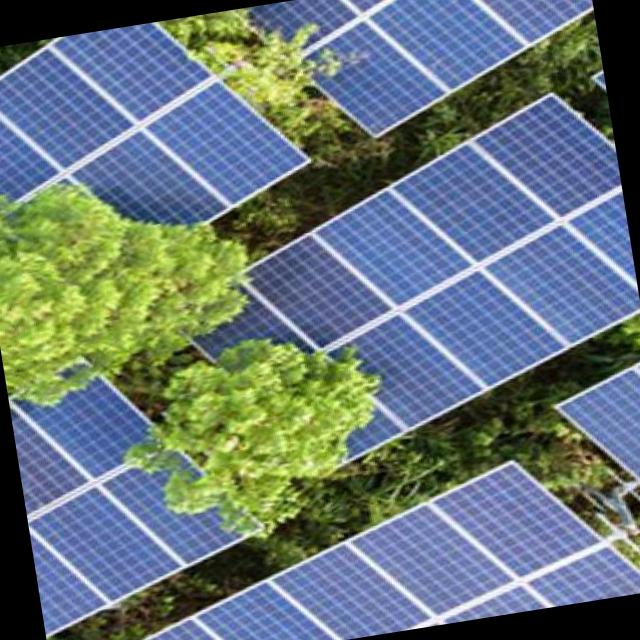faulty: (172, 280, 311, 389), (112, 451, 246, 557), (258, 368, 400, 467), (306, 29, 437, 135), (20, 382, 143, 475), (232, 0, 345, 52)
no faulty: (477, 97, 623, 221), (435, 466, 597, 577), (394, 149, 553, 261), (484, 228, 636, 341), (153, 85, 299, 202), (315, 191, 467, 301), (406, 272, 558, 381), (358, 503, 511, 611), (32, 493, 179, 598), (370, 0, 525, 94), (246, 242, 385, 345), (0, 54, 125, 162), (354, 312, 477, 419), (277, 551, 424, 640), (62, 23, 200, 114), (79, 137, 221, 223), (558, 367, 640, 480), (30, 533, 104, 632), (204, 588, 331, 640), (15, 419, 86, 511), (533, 547, 640, 606), (574, 196, 632, 274), (486, 0, 589, 42), (0, 123, 51, 201), (454, 590, 551, 621), (143, 616, 216, 640)
